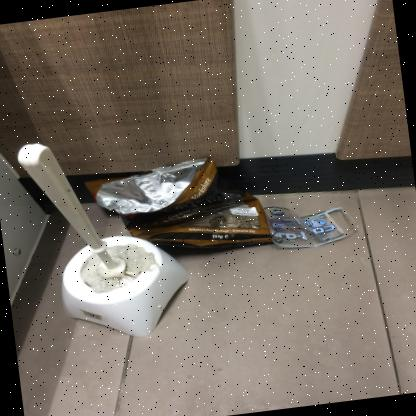Crisp packet: (84, 156, 272, 247)
Plastic film: (263, 206, 359, 246)
Tissues: (81, 253, 128, 292), (106, 244, 160, 275)
